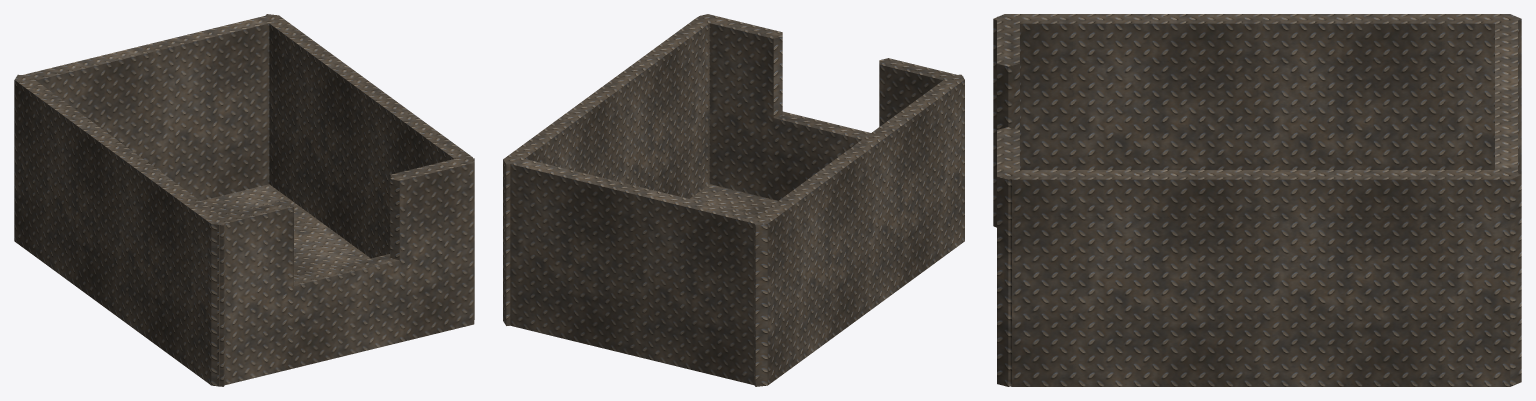
Rendered from Frier.fbx.
3 views of the same model, side by side, from view 1: azimuth 30°, elevation 25°; view 2: azimuth 150°, elevation 25°; view 3: azimuth 270°, elevation 25° (orthographic). The views are drawn at different scales.
Visible parts, largest first — view 1: mergedBlocks; view 2: mergedBlocks; view 3: mergedBlocks.
Part boxes in pixels (<box>): mergedBlocks: <box>14,14,474,386</box>; mergedBlocks: <box>503,14,964,386</box>; mergedBlocks: <box>993,14,1521,386</box>.
Bounding box in the file's own units: 21.25 × 12.46 × 28.65.
1 material, 1 textured.
